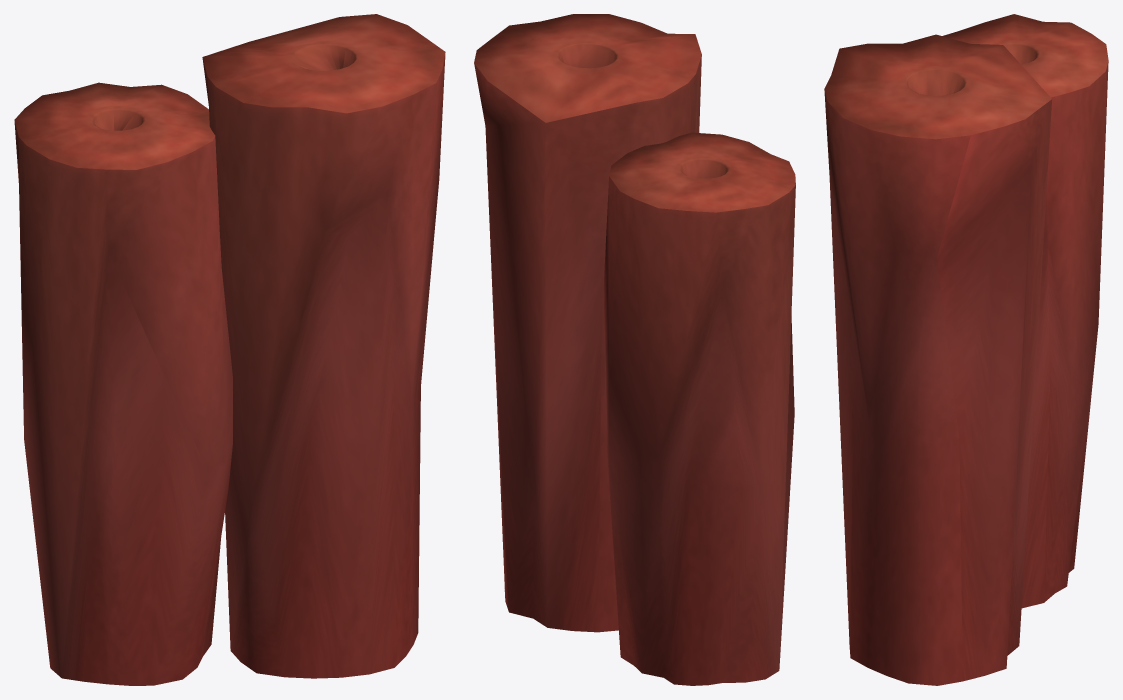
Rendered from seaGrassCylinderRedv3.fbx.
3 renders of one model, left to right at view 1: azimuth 30°, elevation 25°; view 2: azimuth 150°, elevation 25°; view 3: azimuth 270°, elevation 25°, orthographic. The views are drawn at different scales.
Visible parts, largest first — view 1: seaGrassCylinderRedv3; view 2: seaGrassCylinderRedv3; view 3: seaGrassCylinderRedv3.
Part boxes in pixels (x1,y1,x2,y2): seaGrassCylinderRedv3: (14, 14, 445, 685); seaGrassCylinderRedv3: (474, 14, 795, 685); seaGrassCylinderRedv3: (824, 14, 1108, 685).
Bounding box in the file's own units: 0.077 × 0.1194 × 0.0543.
Materials: 1 (1 with a texture image).
